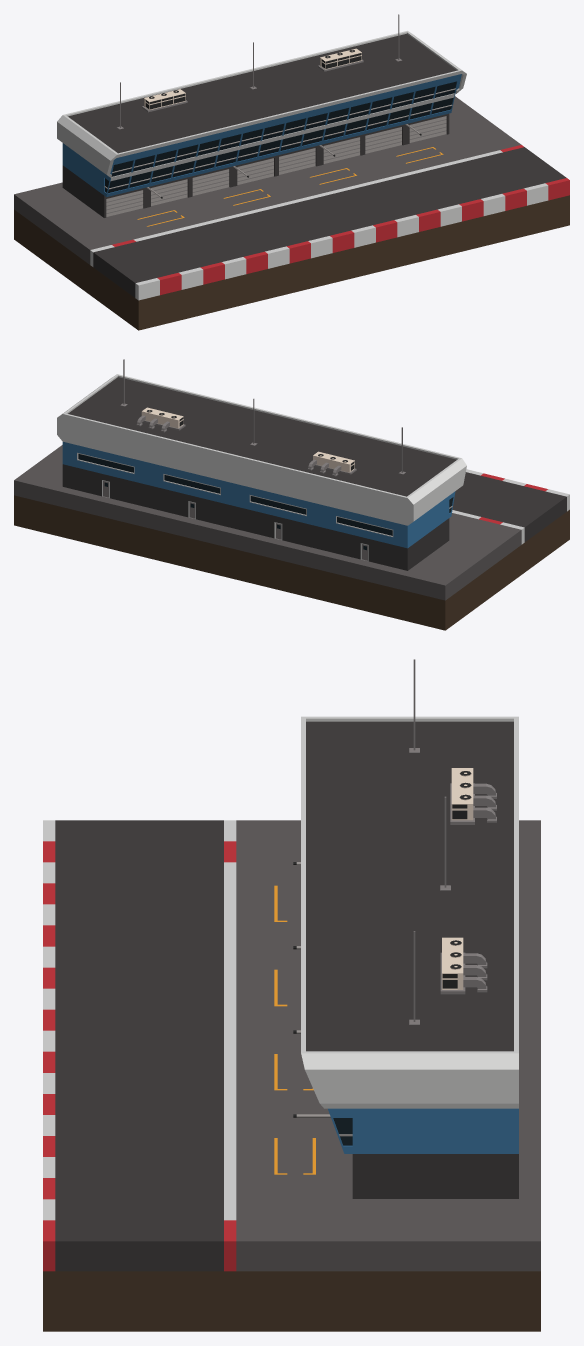
Rendered from tile-race-track-single-pit-lane.glb.
The picture shows the model from 3 angles, top to bottom: view 1: azimuth 30°, elevation 25°; view 2: azimuth 150°, elevation 25°; view 3: azimuth 270°, elevation 25°; orthographic projection. The views are drawn at different scales.
Visible parts, largest first — view 1: tile-race-track-single-pit-lane; view 2: tile-race-track-single-pit-lane; view 3: tile-race-track-single-pit-lane.
Boxes of the visible parts, x1,y1,x2,y2 form: tile-race-track-single-pit-lane: (14,14,569,330); tile-race-track-single-pit-lane: (14,359,569,630); tile-race-track-single-pit-lane: (43,659,540,1331).
Bounding box in the file's own units: 60 × 21.51 × 30.
1 material, 1 textured.
